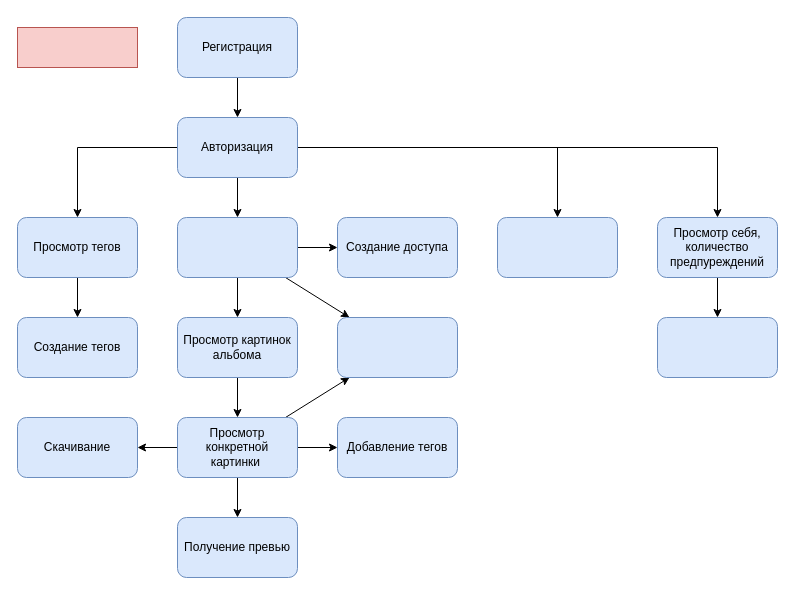
The diagram is 795 pixels wide and 595 high, and some of its shapes have lost their labels. The shapes that lost their labels are listed below. From the top down, each one's centre as x and y in pixels, then its label:
the point at 77,47: Пользователь
the point at 237,247: Просмотр доступных альбомов
the point at 557,247: Просмотр доступов и приглашений
the point at 397,347: Создание жалобы (на чужое)
the point at 717,347: Редактирования себя
